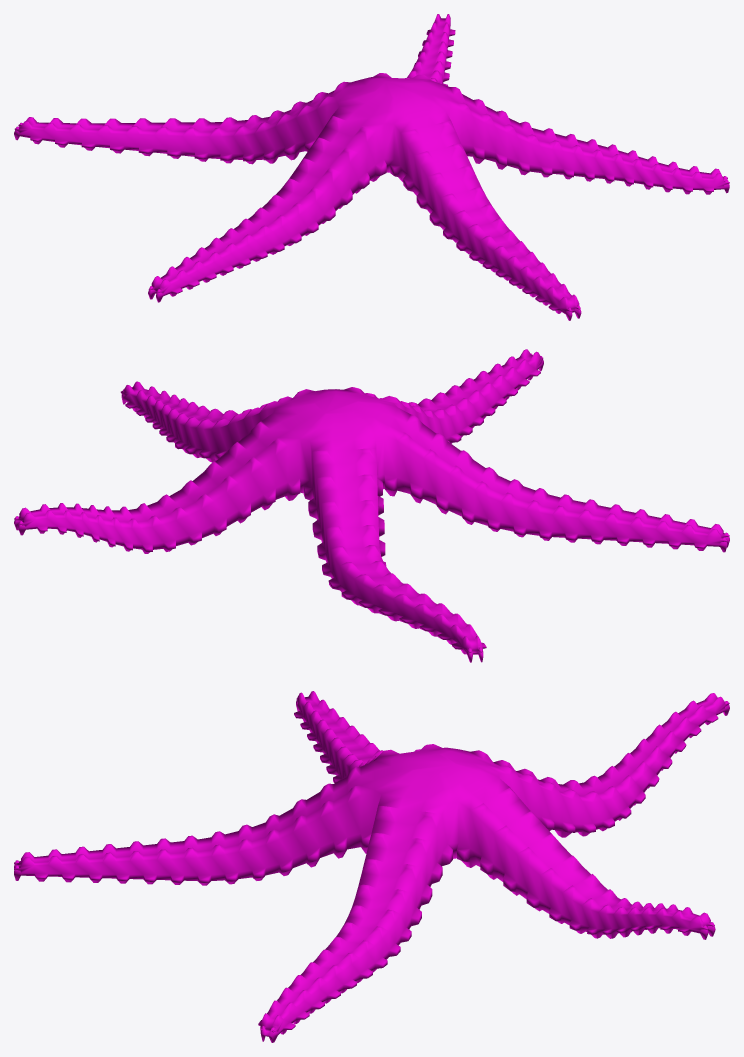
Rendered from Seastar.fbx.
3 views of the same model, one above another, from view 1: azimuth 30°, elevation 25°; view 2: azimuth 150°, elevation 25°; view 3: azimuth 270°, elevation 25° (orthographic). The views are drawn at different scales.
Parts seen in each view (by area): view 1: Starfish; view 2: Starfish; view 3: Starfish.
Boxes of the visible parts, x1,y1,x2,y2 form: Starfish: (14, 14, 729, 320); Starfish: (14, 349, 729, 662); Starfish: (14, 691, 729, 1042).
Size of the model in its own units: 0.5953 by 0.1141 by 0.5656.
